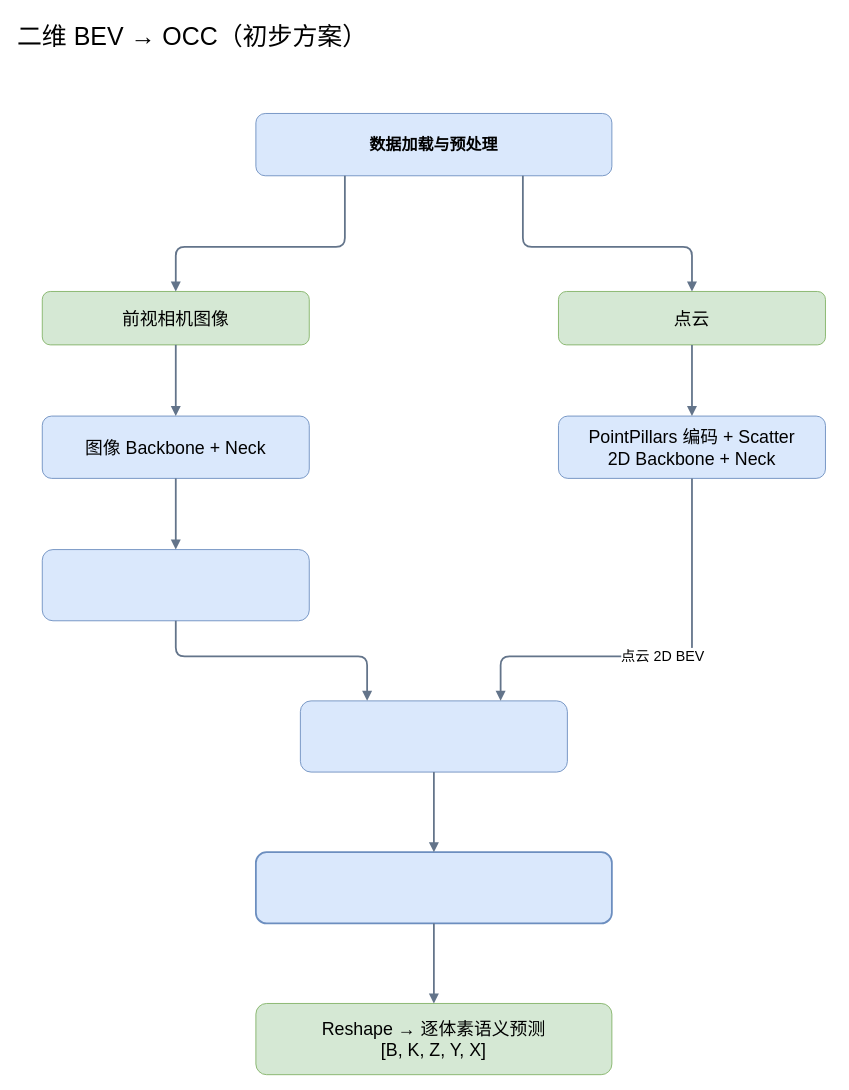
This 849x1090 diagram has some shape labels left out. The centre of each missing label's shape, as x and y in pixels:
2D OCC Head（替换检测头） 输出 [B, K×Z, Y, X]: the point at 433,887
二维 BEV 融合（沿用） Concat + 1×1 Conv2d: the point at 433,736
几何反投影 → 高度折叠 M2BevNeck1V → 2D BEV: the point at 175,585
